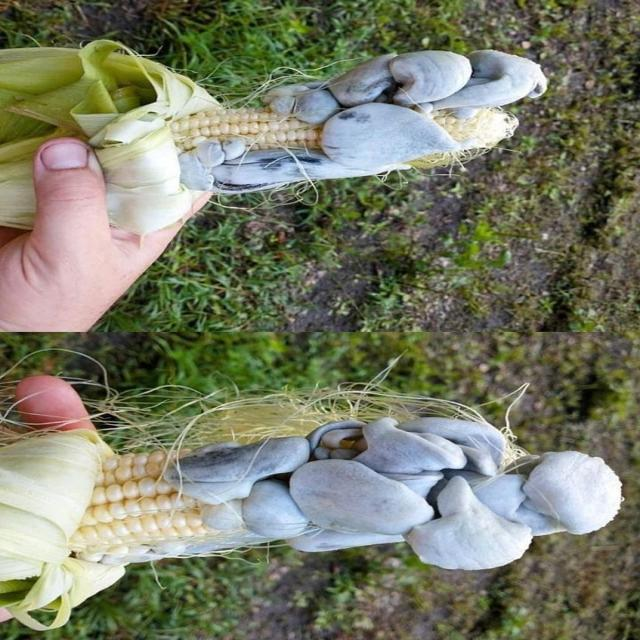Leaf_Scald: (121, 364, 625, 628), (106, 12, 599, 246)
